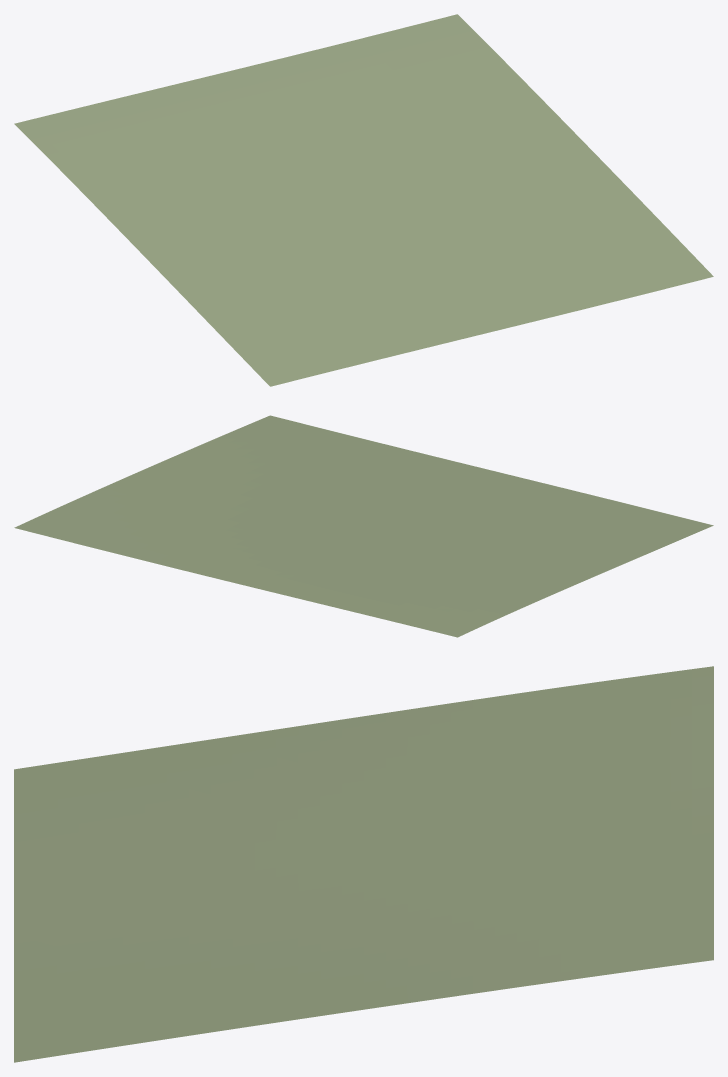
Rendered from desert-31-10.glb.
The picture shows the model from 3 angles, top to bottom: view 1: azimuth 30°, elevation 25°; view 2: azimuth 150°, elevation 25°; view 3: azimuth 270°, elevation 25°; orthographic projection. The views are drawn at different scales.
Visible parts, largest first — view 1: desert-31-10; view 2: desert-31-10; view 3: desert-31-10.
Part boxes in pixels (left/top/right/bottom): desert-31-10: left=14, top=14, right=713, bottom=386; desert-31-10: left=14, top=415, right=713, bottom=637; desert-31-10: left=14, top=666, right=713, bottom=1062.
Bounding box in the file's own units: 512 × 84.77 × 512.
